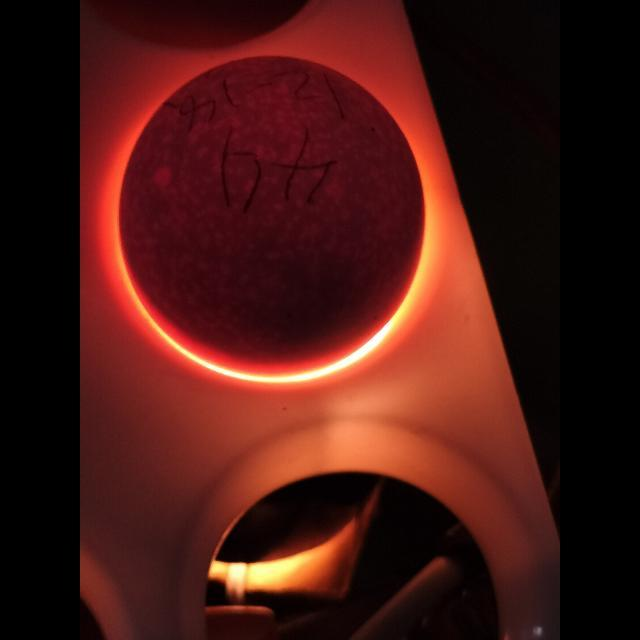Fertile: (106, 58, 446, 364)
